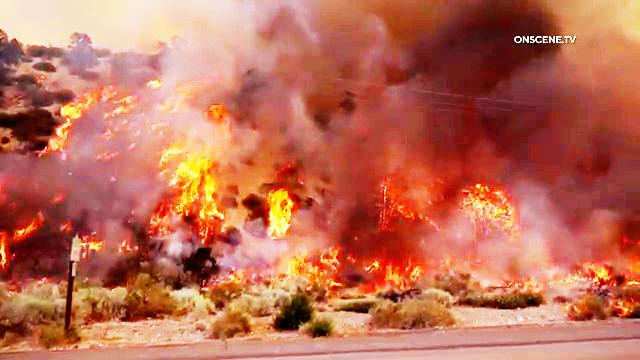fire: (146, 72, 297, 247), (453, 142, 547, 285), (354, 165, 440, 307), (55, 77, 146, 165), (234, 246, 342, 302)
smoke: (308, 6, 490, 84), (477, 55, 636, 141), (0, 25, 67, 119), (554, 197, 640, 256)
